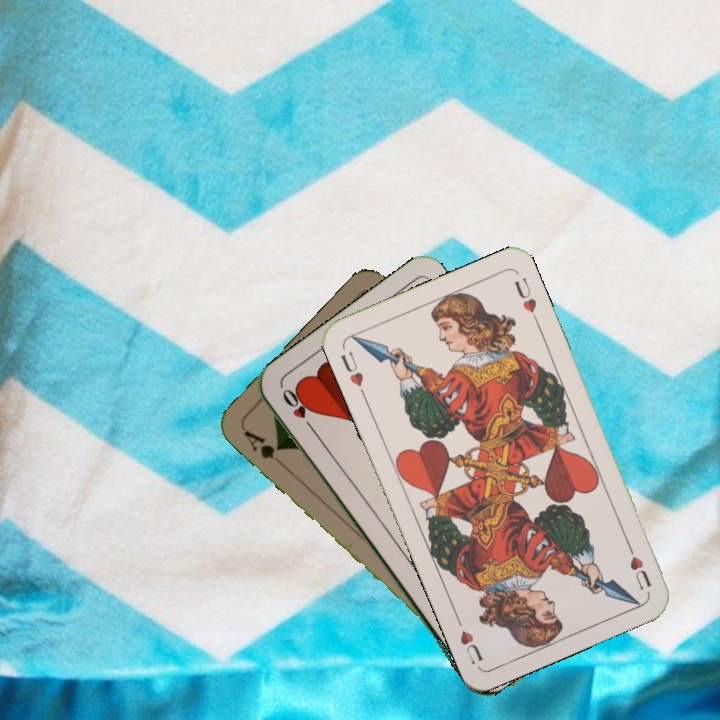GA: (239, 425, 287, 470)
HO: (278, 384, 318, 435)
HU: (622, 538, 655, 593), (336, 347, 369, 400)
